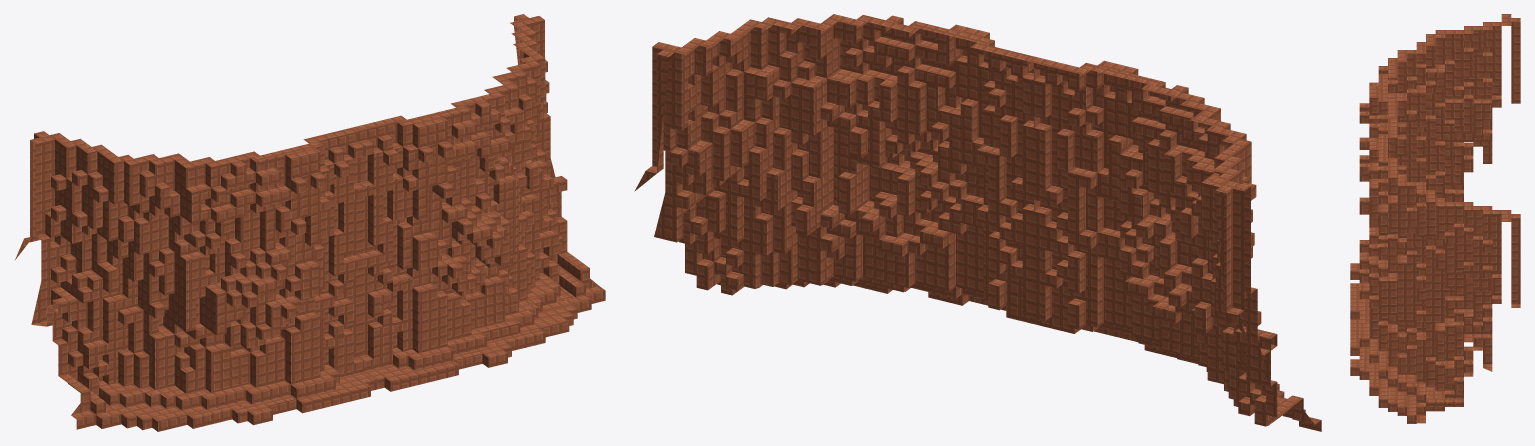
Rendered from ChocoCliff.FBX.
The picture shows the model from 3 angles, left to right: view 1: azimuth 30°, elevation 25°; view 2: azimuth 150°, elevation 25°; view 3: azimuth 270°, elevation 25°; orthographic projection. The views are drawn at different scales.
Visible parts, largest first — view 1: Object001; view 2: Object001; view 3: Object001.
Boxes of the visible parts, x1,y1,x2,y2 form: Object001: (15, 14, 605, 431); Object001: (634, 14, 1321, 431); Object001: (1350, 14, 1520, 423).
Bounding box in the file's own units: 54 × 18 × 24.
